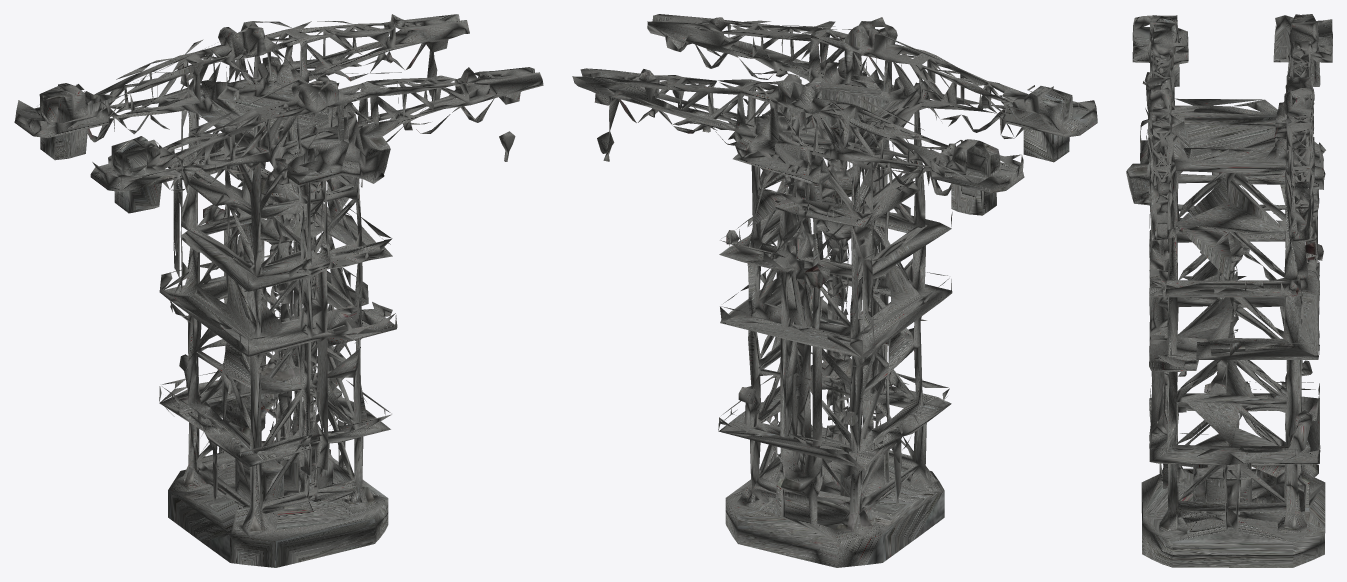
File: fondorgantry.lod1.glb
The picture shows the model from 3 angles, left to right: view 1: azimuth 30°, elevation 25°; view 2: azimuth 150°, elevation 25°; view 3: azimuth 270°, elevation 25°; orthographic projection. The views are drawn at different scales.
Parts seen in each view (by area): view 1: fondorgantry-centred; view 2: fondorgantry-centred; view 3: fondorgantry-centred.
Part boxes in pixels (x1=…): fondorgantry-centred: x1=14, y1=14, x2=543, y2=567; fondorgantry-centred: x1=572, y1=14, x2=1097, y2=567; fondorgantry-centred: x1=1126, y1=14, x2=1332, y2=567.
Bounding box in the file's own units: 87.68 × 89.95 × 37.27.
1 material, 1 textured.
